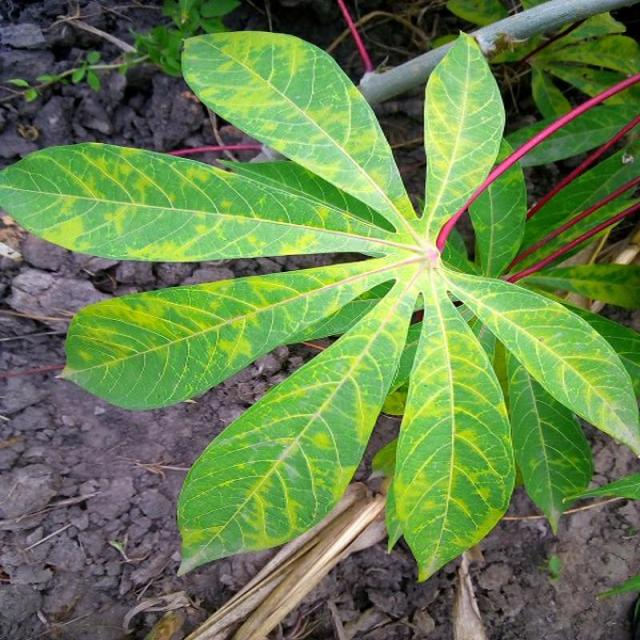cassava leaf: (1, 25, 638, 582), (174, 275, 414, 577), (383, 276, 516, 582), (420, 29, 506, 242)
